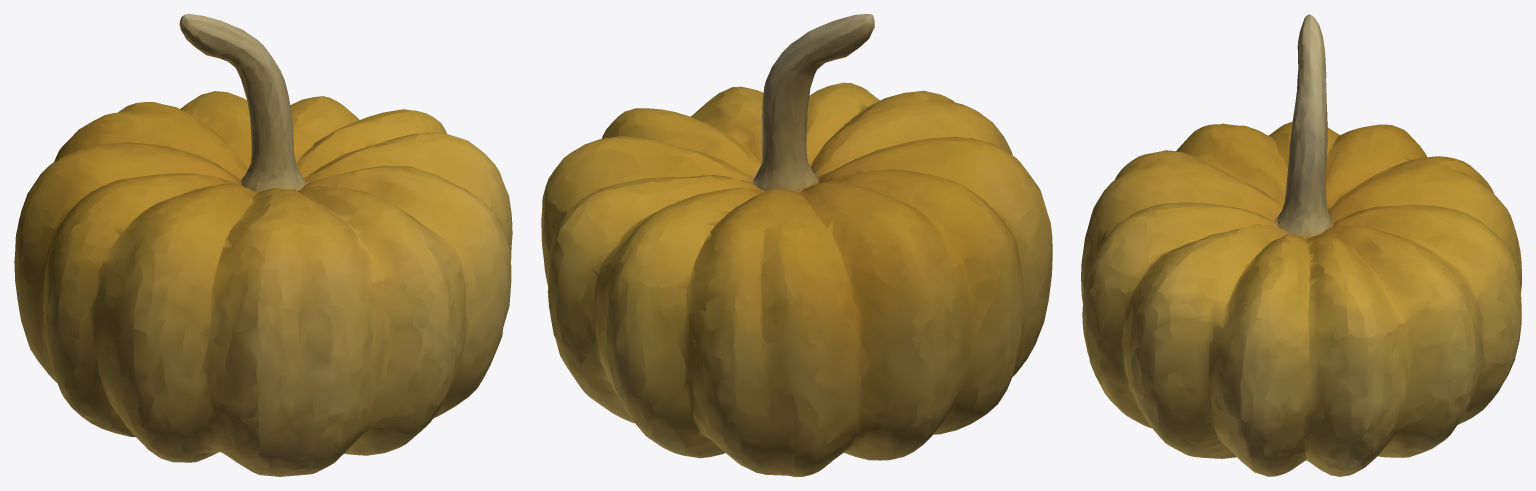
Rendered from 0003_mask_004_toy_orange_pumpkin.glb.
The picture shows the model from 3 angles, left to right: view 1: azimuth 30°, elevation 25°; view 2: azimuth 150°, elevation 25°; view 3: azimuth 270°, elevation 25°; orthographic projection. The views are drawn at different scales.
Visible parts, largest first — view 1: mask_004_object; view 2: mask_004_object; view 3: mask_004_object.
Part boxes in pixels (<box>): mask_004_object: <box>14,14,512,476</box>; mask_004_object: <box>541,14,1052,476</box>; mask_004_object: <box>1081,14,1521,476</box>.
Size of the model in its own units: 0.1262 by 0.1168 by 0.1232.
